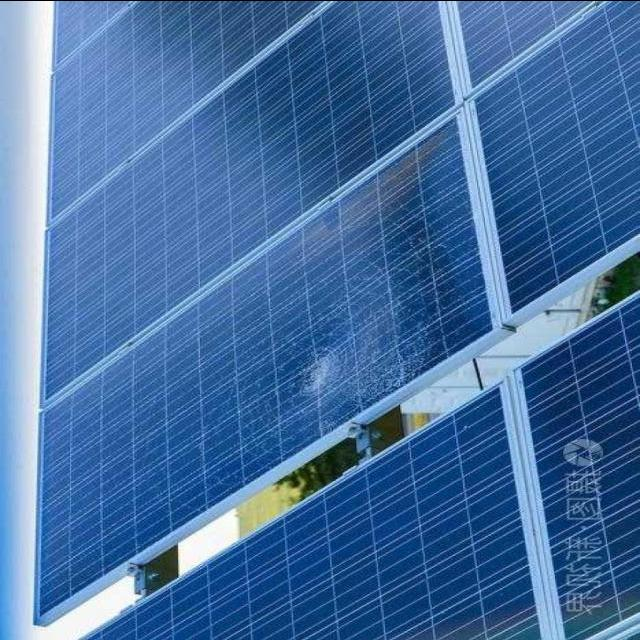cracked: (44, 150, 497, 590)
